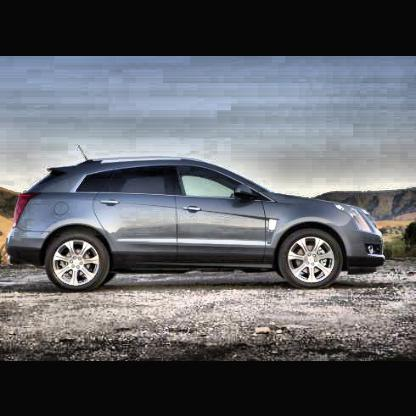Cadillac SRX SUV 2012: (7, 143, 388, 293)
